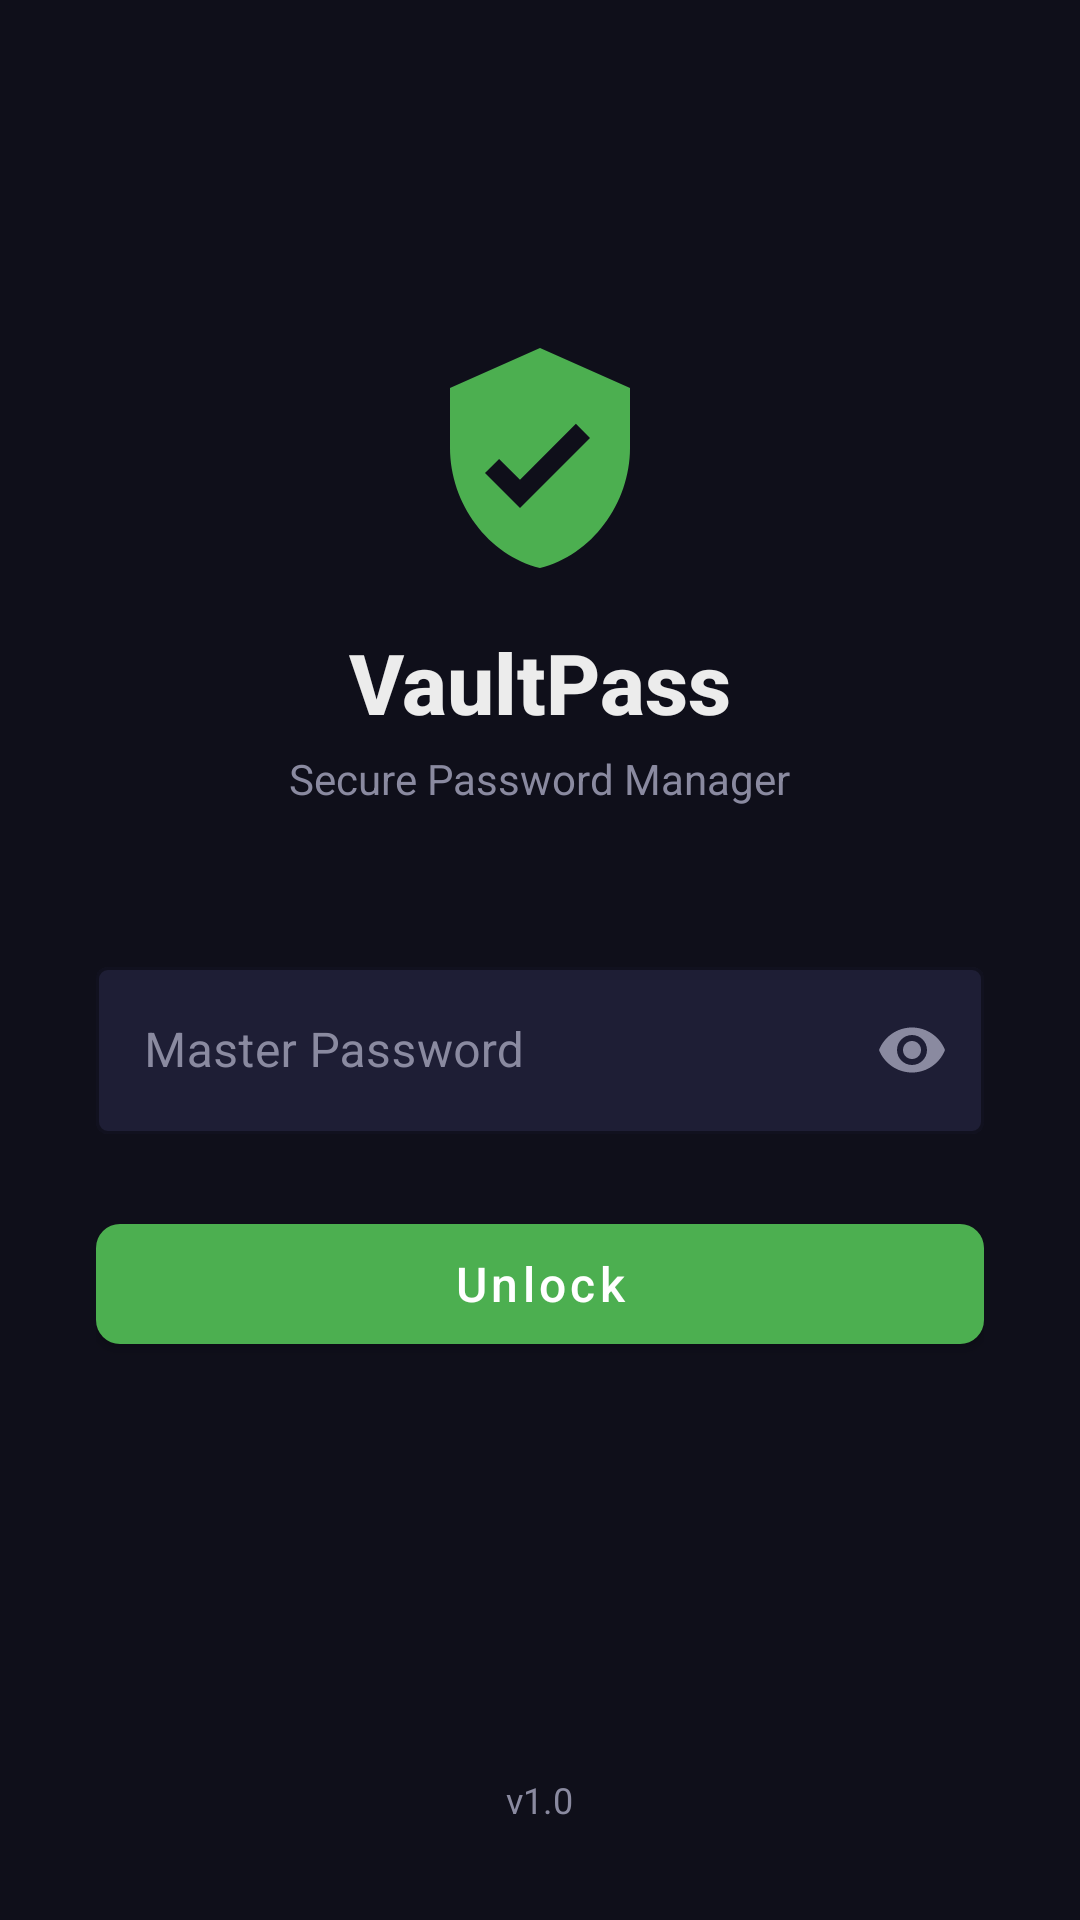

Where icons sit on this 1080px x 1920px app screen, as Rect(x1, y1, x2, y2):
Shield: Rect(450, 348, 630, 568)
